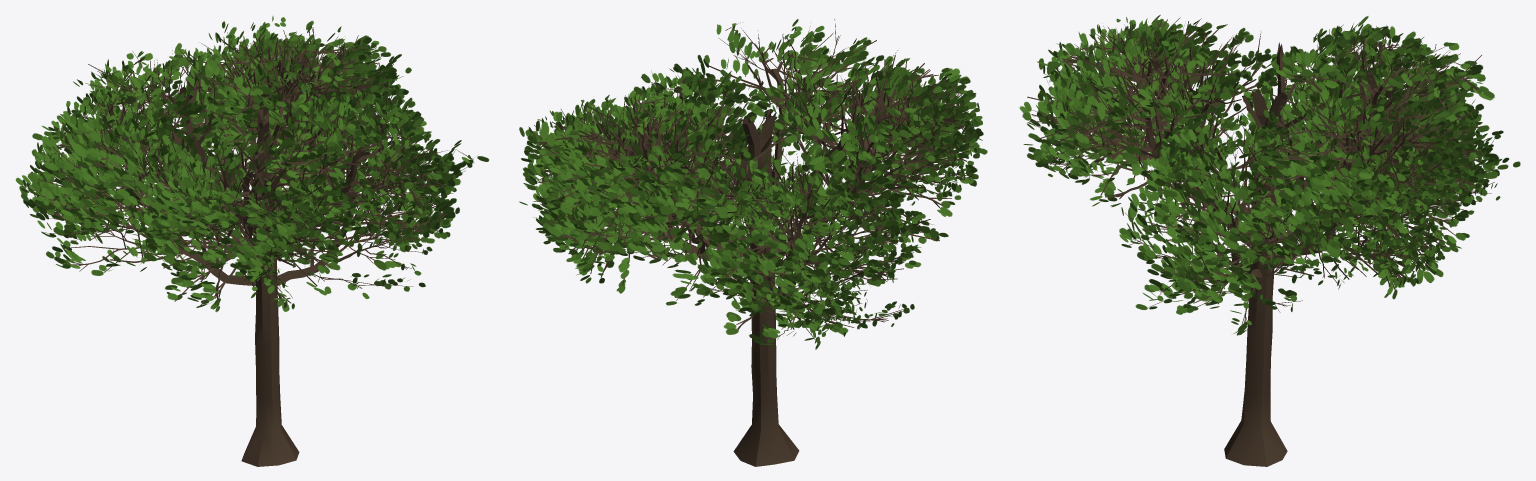
The picture shows the model from 3 angles, left to right: view 1: azimuth 30°, elevation 25°; view 2: azimuth 150°, elevation 25°; view 3: azimuth 270°, elevation 25°; orthographic projection. The views are drawn at different scales.
Visible parts, largest first — view 1: oak 01.001_trunk_Mat.001_0.021; view 2: oak 01.001_trunk_Mat.001_0.021; view 3: oak 01.001_trunk_Mat.001_0.021.
Part boxes in pixels (box(x1,y1,x2,y2)): oak 01.001_trunk_Mat.001_0.021: box(15, 16, 489, 466); oak 01.001_trunk_Mat.001_0.021: box(519, 19, 987, 466); oak 01.001_trunk_Mat.001_0.021: box(1019, 14, 1520, 466).
Size of the model in its own units: 4.33 by 3.94 by 4.68.
2 materials, 1 textured.
